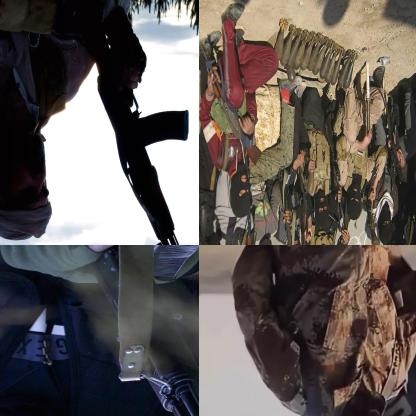rifle: (51, 245, 198, 415), (90, 27, 198, 244), (199, 43, 264, 172), (381, 89, 406, 182), (359, 184, 383, 244), (199, 176, 218, 244), (278, 193, 302, 244), (331, 190, 353, 244), (298, 189, 316, 244), (239, 205, 259, 244)
